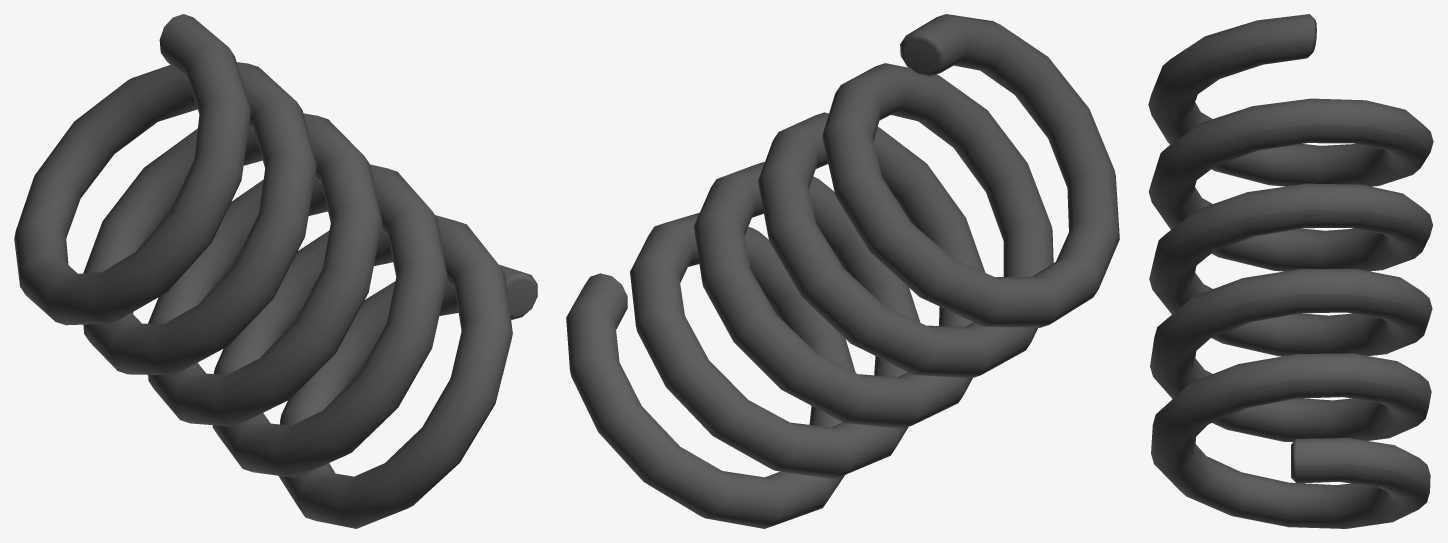
File: Brake_2.fbx
3 views of the same model, side by side, from view 1: azimuth 30°, elevation 25°; view 2: azimuth 150°, elevation 25°; view 3: azimuth 270°, elevation 25° (orthographic). The views are drawn at different scales.
Parts seen in each view (by area): view 1: Brake_2; view 2: Brake_2; view 3: Brake_2.
Boxes of the visible parts, x1=… form: Brake_2: x1=14, y1=14, x2=537, y2=528; Brake_2: x1=566, y1=14, x2=1119, y2=528; Brake_2: x1=1148, y1=14, x2=1433, y2=528.
Size of the model in its own units: 43.08 by 42.78 by 24.37.
1 material, 1 textured.
